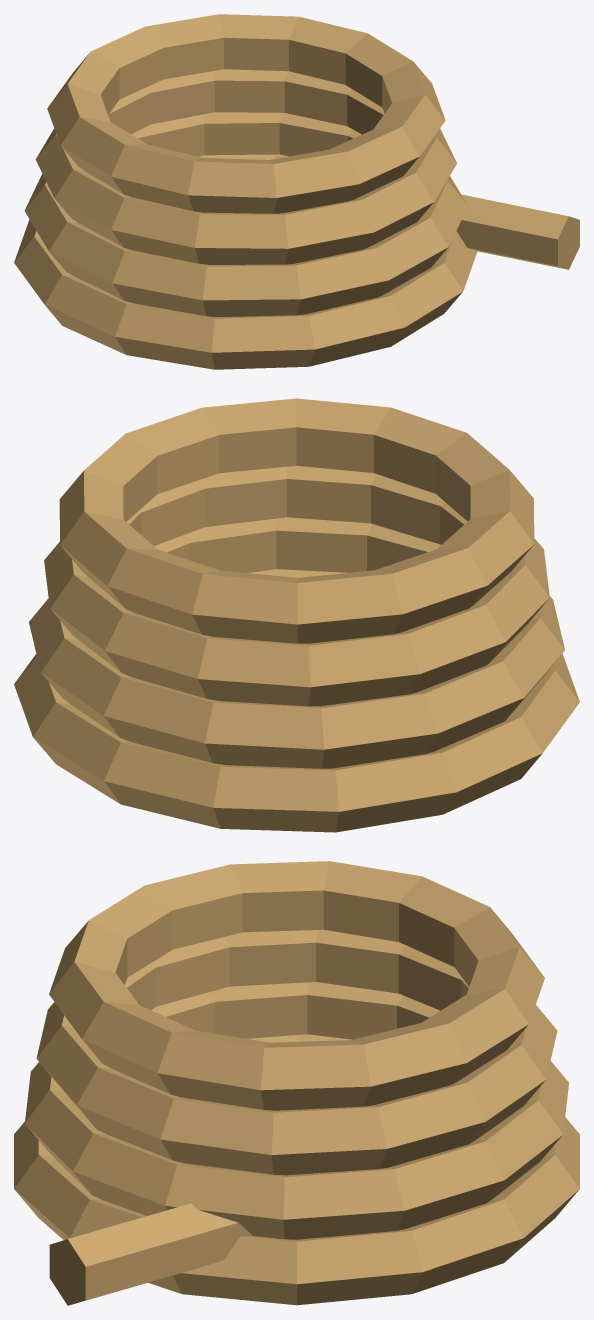
Rendered from Item_Rope.glb.
The picture shows the model from 3 angles, top to bottom: view 1: azimuth 30°, elevation 25°; view 2: azimuth 150°, elevation 25°; view 3: azimuth 270°, elevation 25°; orthographic projection. The views are drawn at different scales.
Visible parts, largest first — view 1: Rope_Coil3, Rope_Coil2, Rope_Coil1, Rope_Coil0, Rope_Tail; view 2: Rope_Coil3, Rope_Coil2, Rope_Coil1, Rope_Coil0; view 3: Rope_Coil3, Rope_Coil2, Rope_Coil1, Rope_Coil0, Rope_Tail.
Boxes of the visible parts, x1,y1,x2,y2 form: Rope_Coil3: [47, 14, 445, 213]; Rope_Coil2: [35, 69, 456, 264]; Rope_Coil1: [24, 112, 467, 317]; Rope_Coil0: [14, 154, 477, 369]; Rope_Tail: [456, 194, 579, 269]; Rope_Coil3: [59, 398, 534, 643]; Rope_Coil2: [44, 465, 549, 706]; Rope_Coil1: [29, 517, 564, 768]; Rope_Coil0: [14, 569, 579, 832]; Rope_Coil3: [49, 861, 544, 1110]; Rope_Coil2: [36, 929, 557, 1175]; Rope_Coil1: [25, 982, 568, 1239]; Rope_Coil0: [14, 1034, 579, 1305]; Rope_Tail: [49, 1203, 252, 1305].
Bounding box in the file's own units: 0.2813 × 0.1144 × 0.2457.
